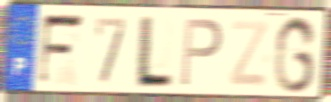7: (92, 15, 127, 86)
F: (36, 11, 87, 89)
G: (271, 14, 319, 96)
L: (131, 13, 176, 90)
P: (178, 16, 224, 89)
Z: (227, 18, 272, 90)
